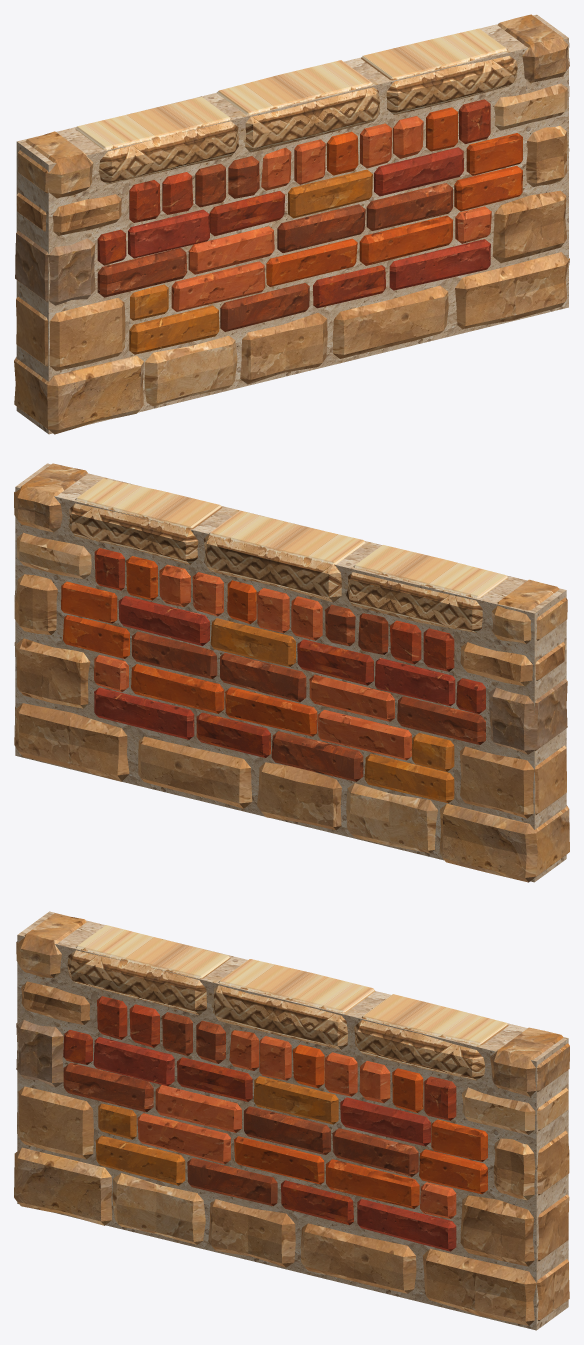
File: half_wall__clay_brick.glb
The picture shows the model from 3 angles, top to bottom: view 1: azimuth 30°, elevation 25°; view 2: azimuth 150°, elevation 25°; view 3: azimuth 330°, elevation 25°; orthographic projection.
Visible parts, largest first — view 1: model; view 2: model; view 3: model.
Part boxes in pixels (<box>): model: <box>14,14,569,434</box>; model: <box>14,463,569,882</box>; model: <box>14,911,569,1330</box>.
Bounding box in the file's own units: 1.98 × 0.984 × 0.2832.
Materials: 13 (13 with a texture image).
